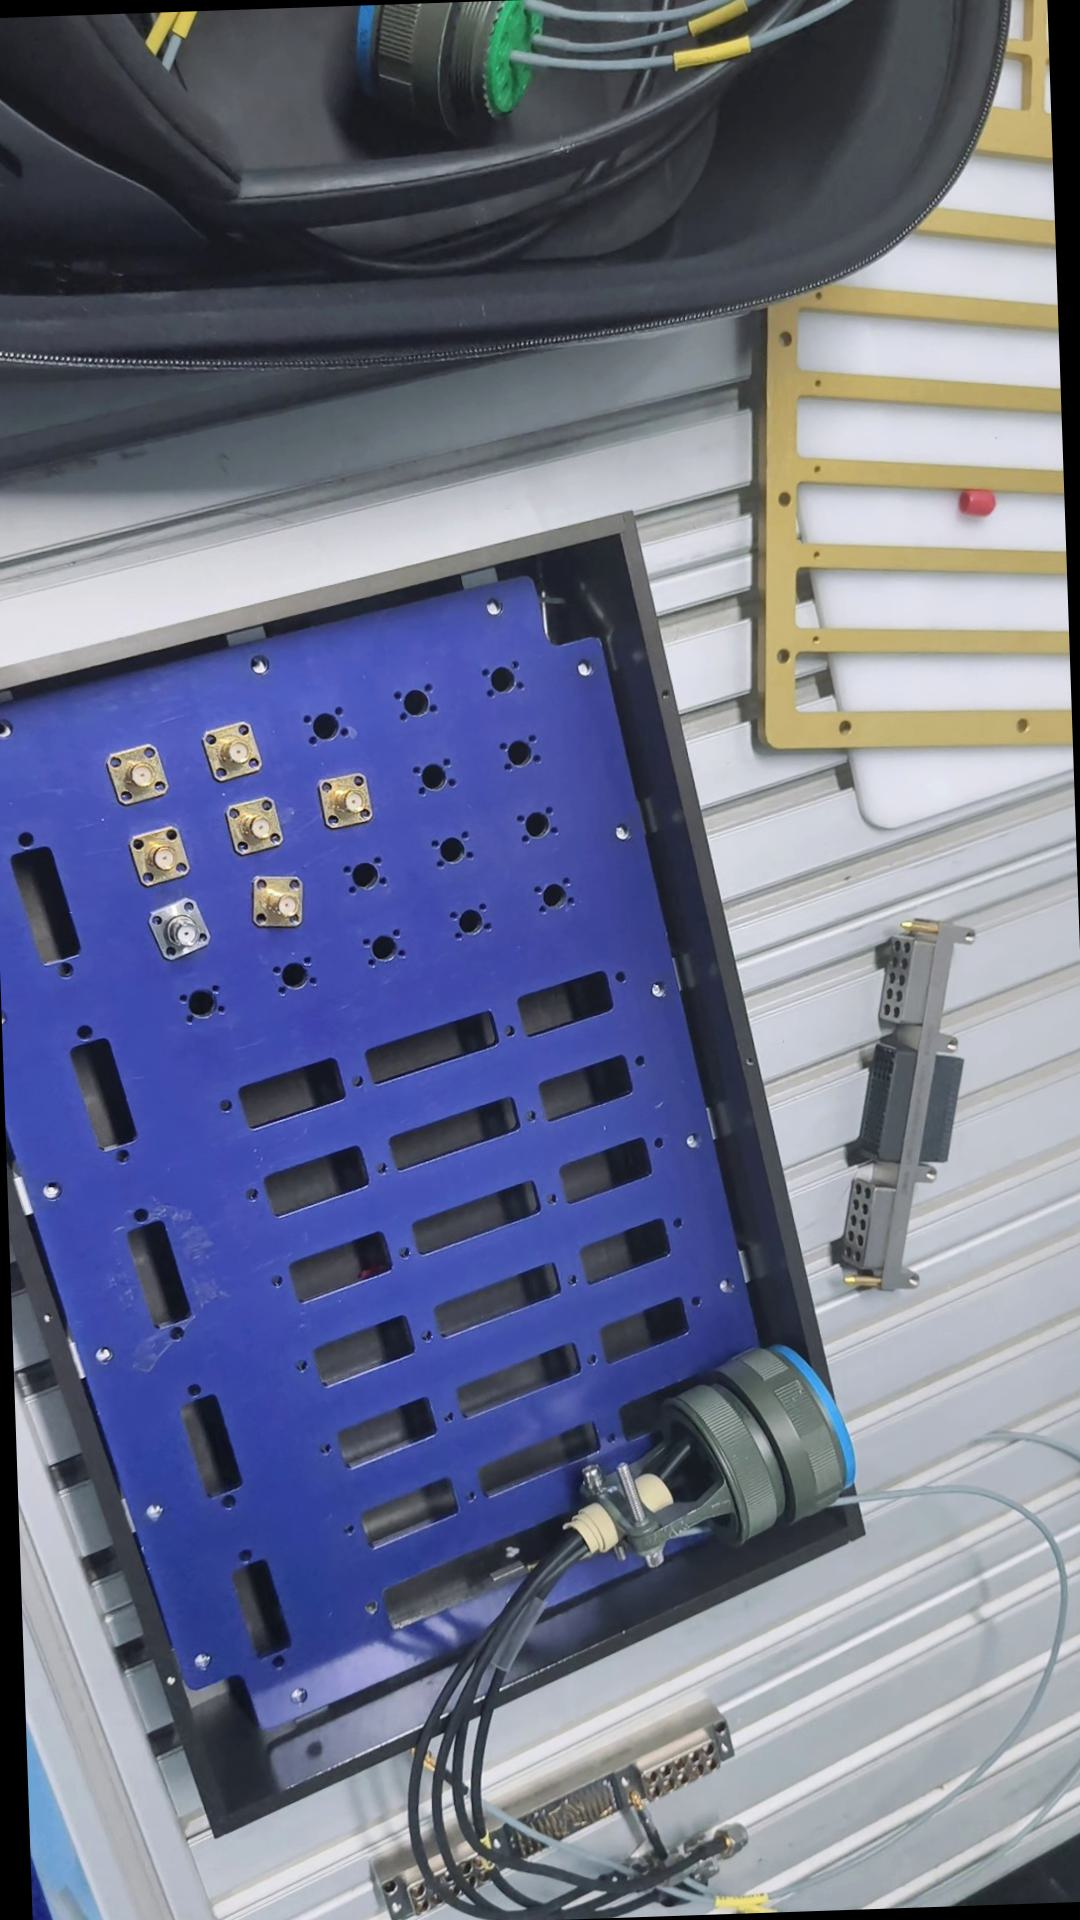SMA: (105, 742, 175, 804), (200, 721, 270, 783), (249, 869, 315, 934), (316, 769, 382, 827), (131, 829, 194, 889), (152, 897, 212, 957), (229, 798, 287, 856)
